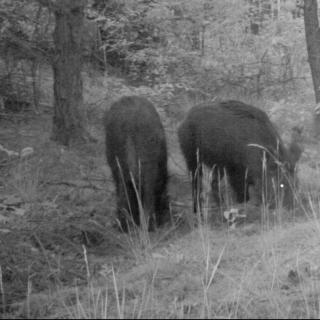Pig: (172, 83, 308, 238), (99, 90, 172, 232)
